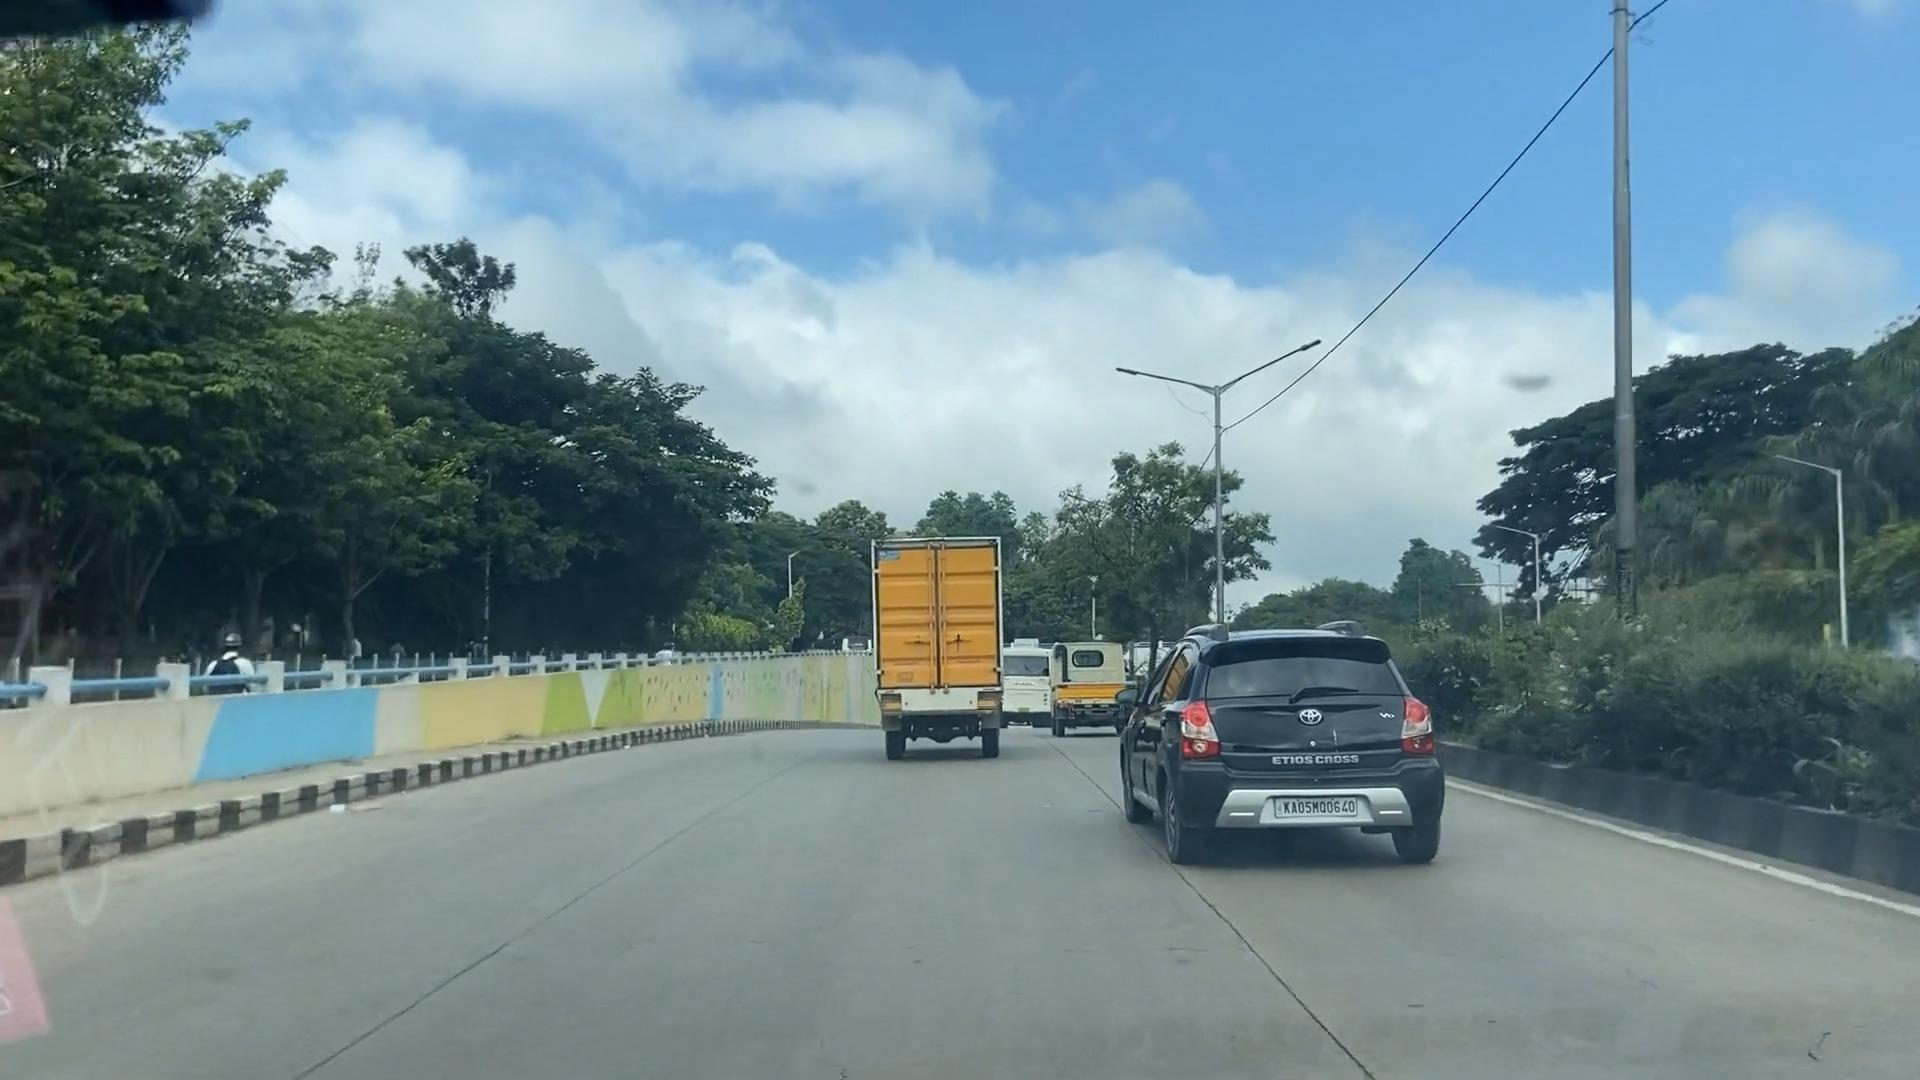HMV: (865, 534, 1005, 764)
LMV: (1098, 637, 1423, 874)
